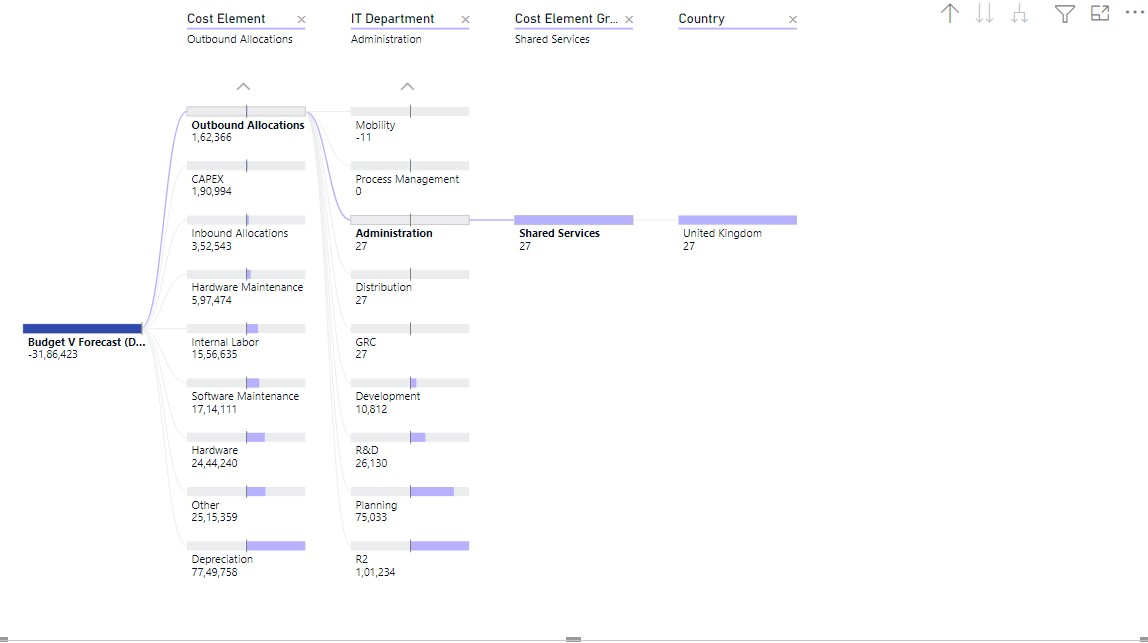

The dashboard page shown, as its layout file describes it:
{"tool":"powerbi","page":{"name":"Decompositions ","canvas":[1280,720],"ordinal":2},"visuals":[{"type":"decompositionTreeVisual","fields":{"Analyze":["Budget.Budget V Forecast (Diff)"],"ExplainBy":["CostElements.Cost Element Group","Regions.Country","Departments.IT Department","CostElements.Cost Element"]},"box":[0,0,1269,708.7],"z":0}]}

Visuals, with their boxes on the page's 1280x720 design canvas (x1, y1, x2, y2). These are canvas units, not pixel positions in the 1148x643 screenshot, which may show the page scaled, cropped or inside an application window:
decompositionTreeVisual - Budget.Budget V Forecast (Diff) x CostElements.Cost Element Group: 0/0/1269/709
